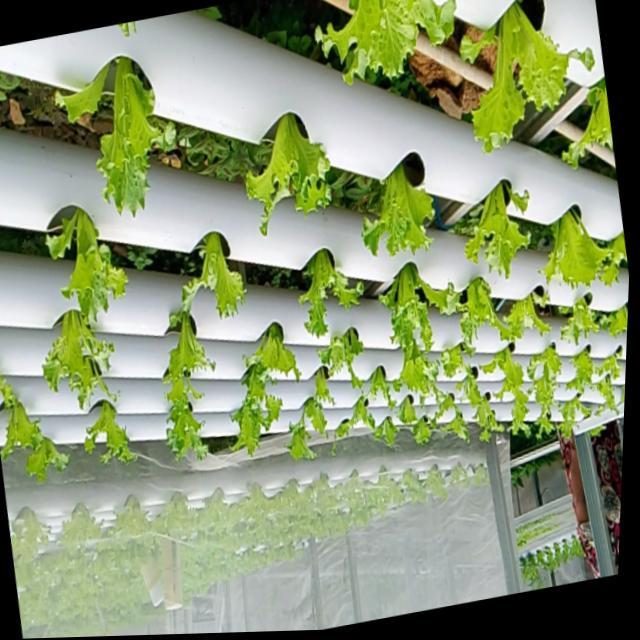Baby: (465, 5, 599, 154), (102, 57, 179, 217), (321, 0, 461, 85), (249, 112, 335, 235), (52, 208, 133, 323), (166, 302, 218, 458), (366, 152, 439, 255), (48, 309, 118, 408), (469, 179, 535, 277), (544, 208, 614, 291), (303, 248, 367, 336), (451, 276, 526, 348), (187, 231, 249, 317), (235, 364, 285, 454), (1, 384, 50, 459), (322, 326, 382, 386), (248, 321, 305, 379), (89, 400, 140, 462), (531, 343, 565, 430), (397, 339, 442, 402), (562, 396, 594, 437), (572, 349, 598, 393), (444, 344, 470, 378), (599, 374, 621, 411), (438, 391, 462, 421)
